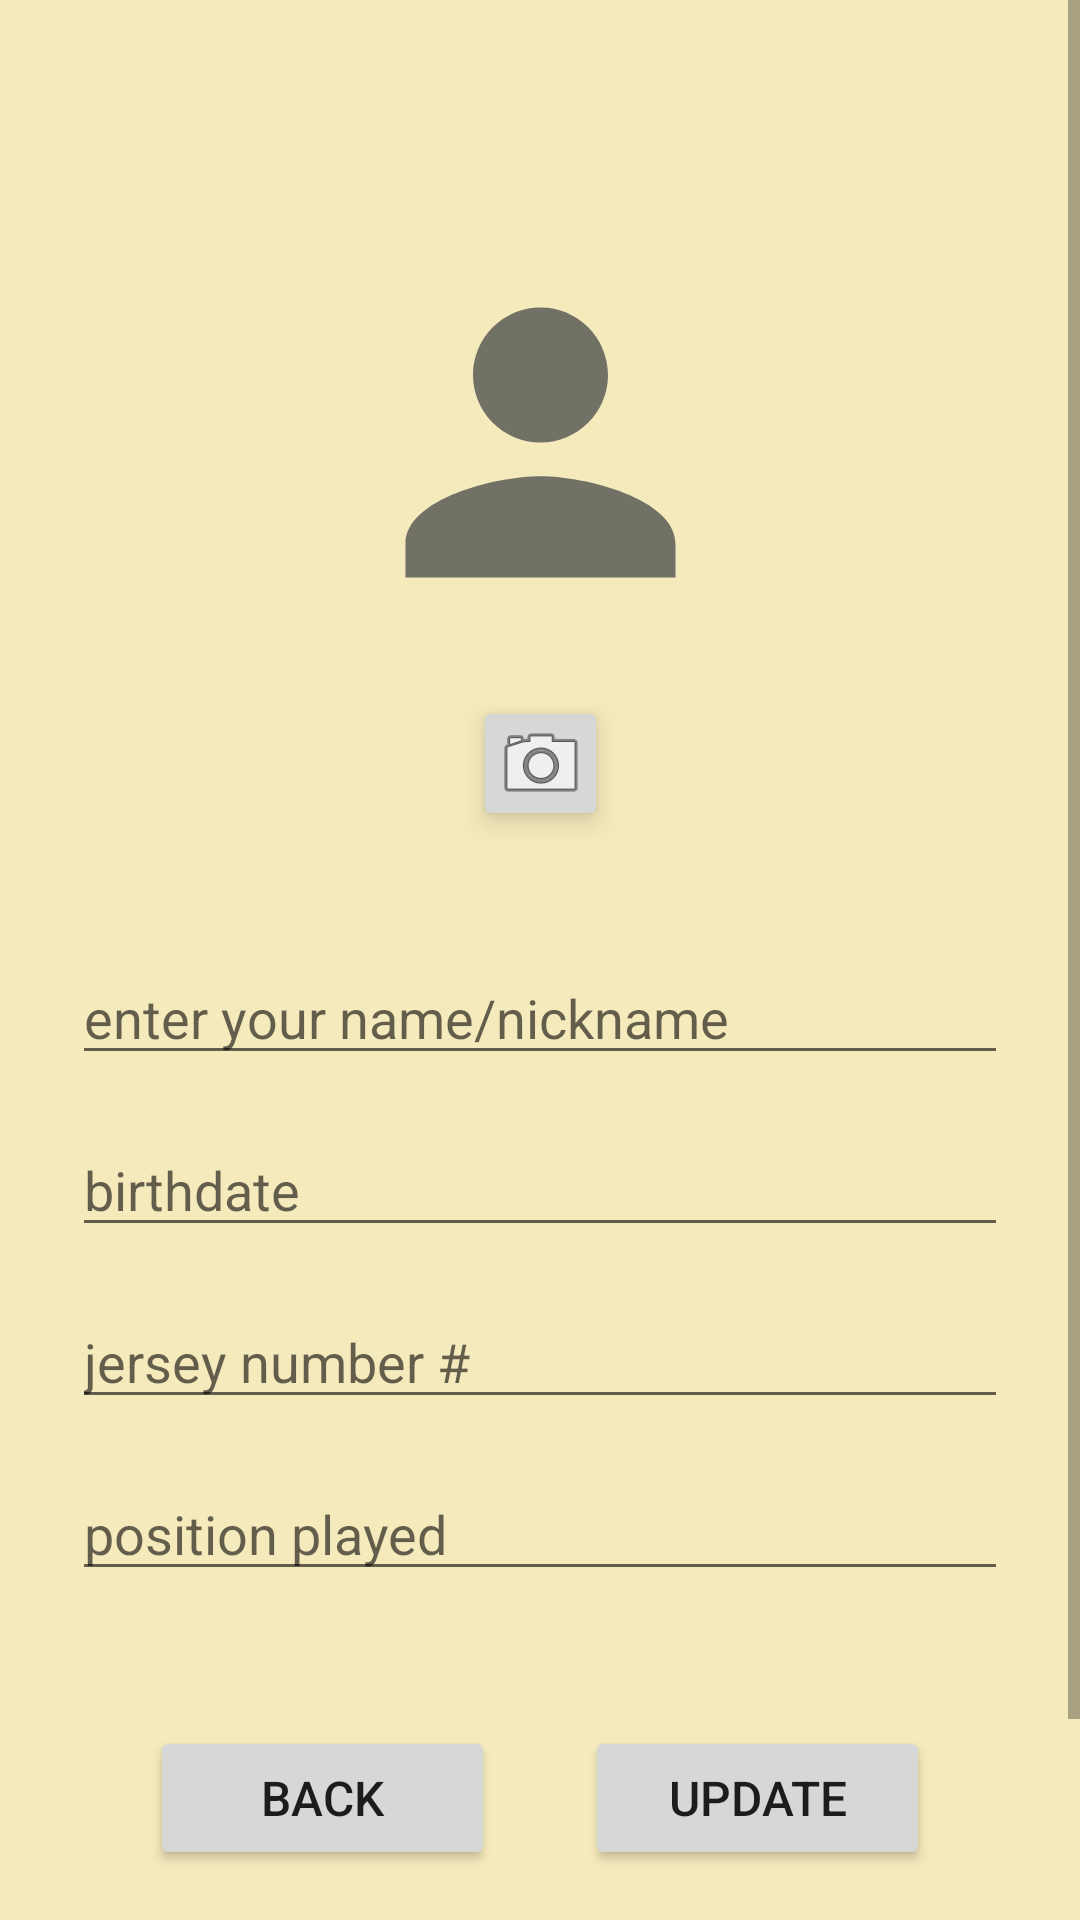

Icons on this 1080×1920 Android screen, each with the point to tap as [x,y]:
camera: [540,764]
profile: [540,442]
